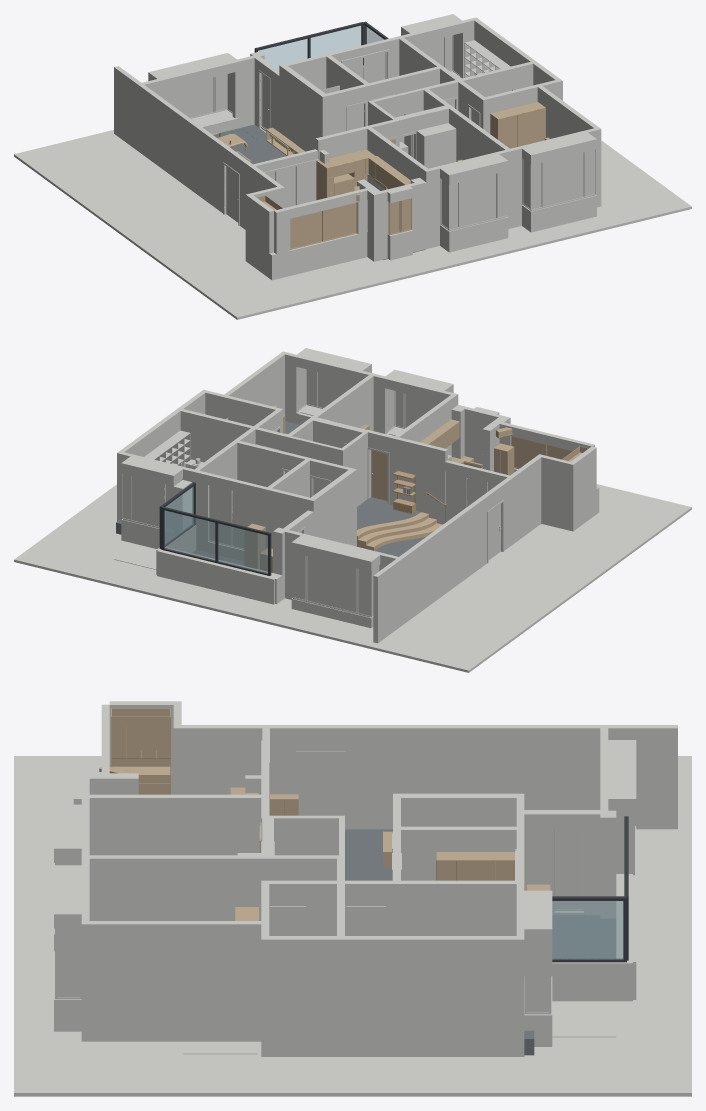
File: interaction_proxy.glb
3 views of the same model, one above another, from view 1: azimuth 30°, elevation 25°; view 2: azimuth 150°, elevation 25°; view 3: azimuth 270°, elevation 25° (orthographic). The views are drawn at different scales.
Parts seen in each view (by area): view 1: SITE_GROUND.001, VIEW_WALL_W_wall_md_0006.001, VIEW_WALL_LIVING_FIX_GUEST_BATH_FULL_WALL.001, VIEW_WALL_W_wall_md_0042.001, VIEW_WALL_W_wall_md_0035.001, V4_W-MB-S_FRONT_GLASS_1.001, VIEW_WALL_W_wall_md_0034.001, V4_W-SMB-S_FRONT_GLASS_1.001, VIEW_WALL_W_wall_md_0007.001, VIEW_WALL_W_wall_md_0021.001, VIEW_WALL_W_wall_md_0030.001, VIEW_WALL_W_wall_md_0060.001 (+45 smaller); view 2: SITE_GROUND.001, VIEW_WALL_W_wall_md_0006.001, VIEW_WALL_W_wall_md_0062.001, VIEW_WALL_W_wall_md_0005.001, VIEW_WALL_W_wall_md_0044.001, VIEW_WALL_W_wall_md_0055.001, VIEW_WALL_W_wall_md_0043.001, VIEW_WALL_LIVING_FIX_GUEST_BATH_FULL_WALL.001, LIVING_FIX_BAY_FRONT_GLASS_1.001, VIEW_WALL_W_wall_md_0049.001, NORTH_BALCONY_GLASS_NORTH_B.001, VIEW_WALL_W_wall_md_0007.001 (+55 smaller); view 3: SITE_GROUND.001, VIEW_WALL_W_wall_md_0030.001, VIEW_WALL_W_wall_md_0033.001, VIEW_WALL_W_wall_md_0006.001, VIEW_WALL_W_wall_md_0021.001, VIEW_WALL_W_wall_md_0015.001, VIEW_WALL_W_wall_md_0032.001, VIEW_WALL_W_wall_md_0005.001, VIEW_WALL_W_wall_md_0025.001, FLOOR_LOWER.001, VIEW_WALL_W_wall_md_0007.001, NORTH_BALCONY_GLASS_EAST.001 (+38 smaller).
Part boxes in pixels (x1,y1,x2,y2): SITE_GROUND.001: (14, 128, 691, 319); VIEW_WALL_W_wall_md_0006.001: (139, 85, 227, 212); VIEW_WALL_LIVING_FIX_GUEST_BATH_FULL_WALL.001: (282, 66, 325, 153); VIEW_WALL_W_wall_md_0042.001: (276, 232, 367, 278); VIEW_WALL_W_wall_md_0035.001: (533, 139, 594, 231); V4_W-MB-S_FRONT_GLASS_1.001: (543, 152, 583, 206); VIEW_WALL_W_wall_md_0034.001: (451, 161, 505, 251); V4_W-SMB-S_FRONT_GLASS_1.001: (460, 174, 496, 226); VIEW_WALL_W_wall_md_0007.001: (114, 66, 141, 150); VIEW_WALL_W_wall_md_0021.001: (449, 107, 509, 161); VIEW_WALL_W_wall_md_0030.001: (537, 86, 598, 138); VIEW_WALL_W_wall_md_0060.001: (232, 55, 254, 128); SITE_GROUND.001: (14, 484, 691, 672); VIEW_WALL_W_wall_md_0006.001: (399, 495, 487, 624); VIEW_WALL_W_wall_md_0062.001: (157, 547, 277, 604); VIEW_WALL_W_wall_md_0005.001: (499, 456, 541, 550); VIEW_WALL_W_wall_md_0044.001: (396, 437, 441, 523); VIEW_WALL_W_wall_md_0055.001: (196, 470, 266, 561); VIEW_WALL_W_wall_md_0043.001: (541, 455, 575, 531); VIEW_WALL_LIVING_FIX_GUEST_BATH_FULL_WALL.001: (311, 470, 354, 545); LIVING_FIX_BAY_FRONT_GLASS_1.001: (307, 556, 356, 612); VIEW_WALL_W_wall_md_0049.001: (180, 409, 253, 462); NORTH_BALCONY_GLASS_NORTH_B.001: (164, 510, 215, 560); VIEW_WALL_W_wall_md_0007.001: (373, 559, 400, 643); SITE_GROUND.001: (14, 756, 691, 1096); VIEW_WALL_W_wall_md_0030.001: (89, 921, 261, 1041); VIEW_WALL_W_wall_md_0033.001: (345, 936, 516, 1056); VIEW_WALL_W_wall_md_0006.001: (345, 725, 600, 829); VIEW_WALL_W_wall_md_0021.001: (89, 855, 261, 920); VIEW_WALL_W_wall_md_0015.001: (89, 794, 261, 855); VIEW_WALL_W_wall_md_0032.001: (261, 936, 336, 1056); VIEW_WALL_W_wall_md_0005.001: (181, 725, 296, 794); VIEW_WALL_W_wall_md_0025.001: (401, 880, 516, 935); FLOOR_LOWER.001: (345, 829, 616, 958); VIEW_WALL_W_wall_md_0007.001: (608, 725, 677, 829); NORTH_BALCONY_GLASS_EAST.001: (552, 901, 623, 959).
Bounding box in the file's own units: 20 × 3.37 × 17.
